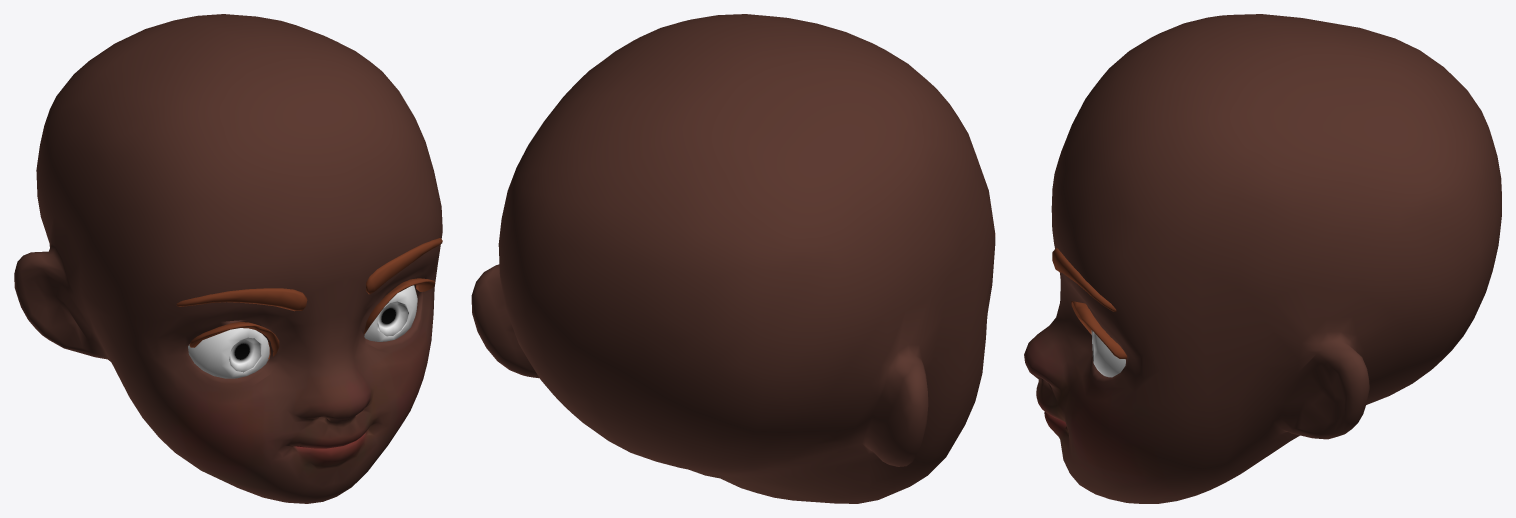
The picture shows the model from 3 angles, left to right: view 1: azimuth 30°, elevation 25°; view 2: azimuth 150°, elevation 25°; view 3: azimuth 270°, elevation 25°; orthographic projection. The views are drawn at different scales.
Parts seen in each view (by area): view 1: skin.001, eyes.001, brows.001, lashes.001; view 2: skin.001; view 3: skin.001, lashes.001, eyes.001, brows.001.
Part boxes in pixels (x1,y1,x2,y2): skin.001: (14, 14, 442, 503); eyes.001: (188, 285, 417, 378); brows.001: (176, 238, 442, 311); lashes.001: (189, 278, 435, 358); skin.001: (471, 14, 995, 503); skin.001: (1024, 14, 1501, 503); lashes.001: (1071, 301, 1127, 359); eyes.001: (1091, 330, 1125, 377); brows.001: (1052, 248, 1116, 311).
Size of the model in its own units: 1.9 by 2 by 1.92.
Materials: 9 (2 with a texture image).
